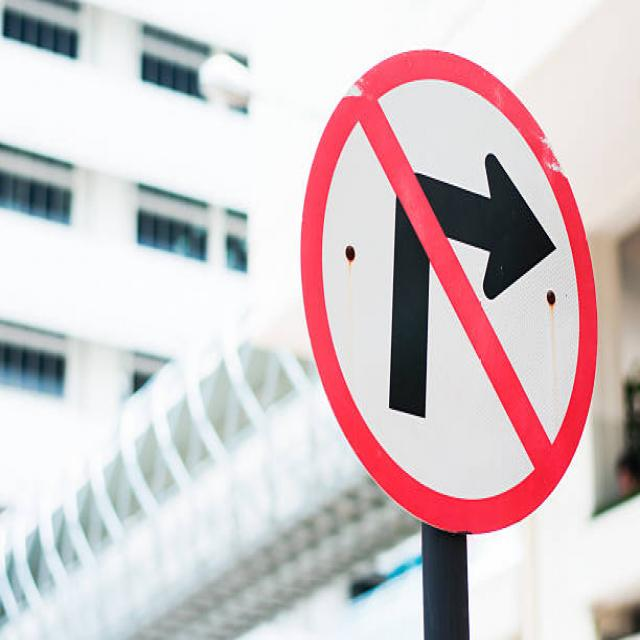do_not_turn_right: (293, 37, 603, 550)
